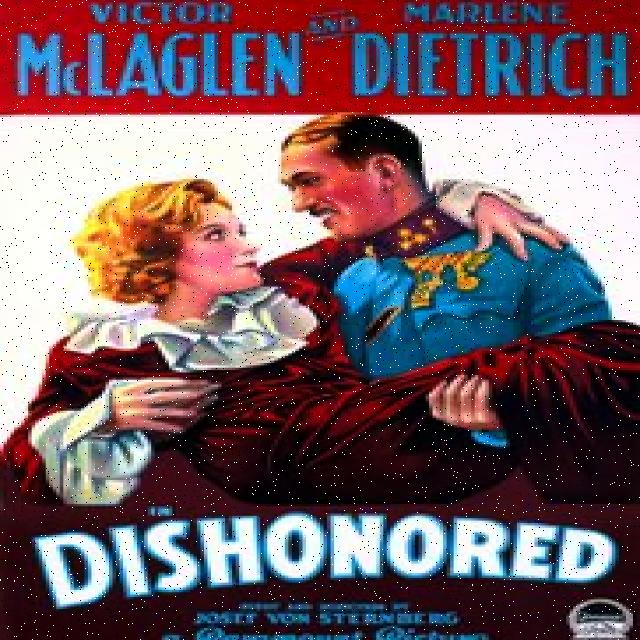movie-judul: (26, 503, 635, 640), (5, 3, 635, 111)
picture: (2, 117, 640, 507)
